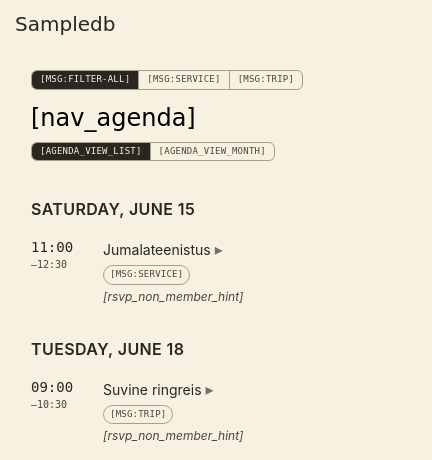
Scenario: #266 — the month view renders trip and service via the same vocabulary pair › month rows for trip/service events carry the localized badge with the shared quiet classes
The image size is (432, 460).
Click the button with test id "agenda-view-month" at (212, 151), box x1=151 y1=142 x2=274 y2=160
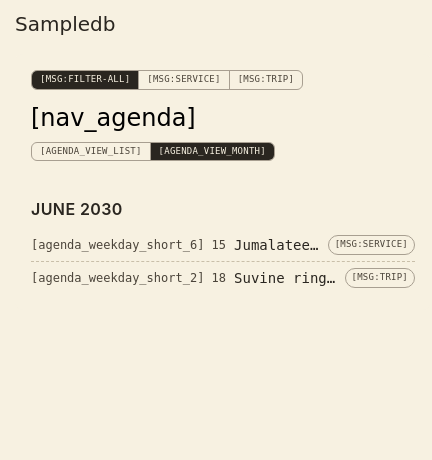
Check: the element with test id "agenda-month-row-up-trip" is shown, box x1=31 y1=262 x2=415 y2=294
Check: the element with test id "agenda-month-row-up-serv" is shown, box x1=31 y1=229 x2=415 y2=262
